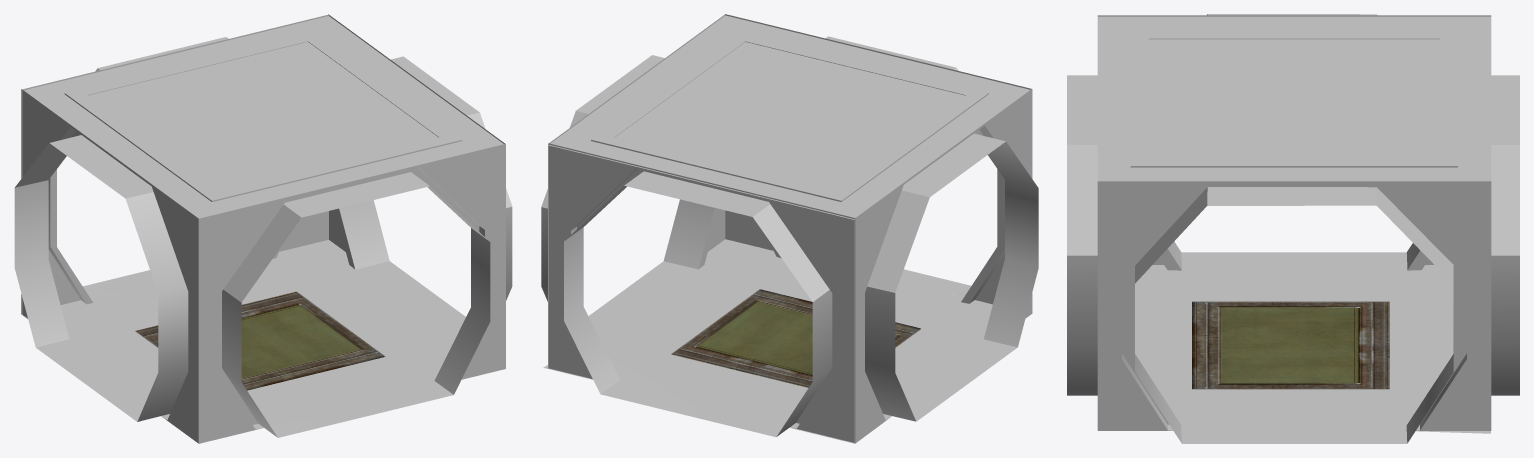
The model's file is 4G_Corridor.fbx.
3 views of the same model, side by side, from view 1: azimuth 30°, elevation 25°; view 2: azimuth 150°, elevation 25°; view 3: azimuth 270°, elevation 25° (orthographic). The views are drawn at different scales.
Visible parts, largest first — view 1: 4GC; view 2: 4GC; view 3: 4GC.
Boxes of the visible parts, x1=… form: 4GC: x1=14, y1=14, x2=512, y2=443; 4GC: x1=541, y1=14, x2=1038, y2=443; 4GC: x1=1067, y1=14, x2=1519, y2=443.
Bounding box in the file's own units: 521 × 317 × 520.
